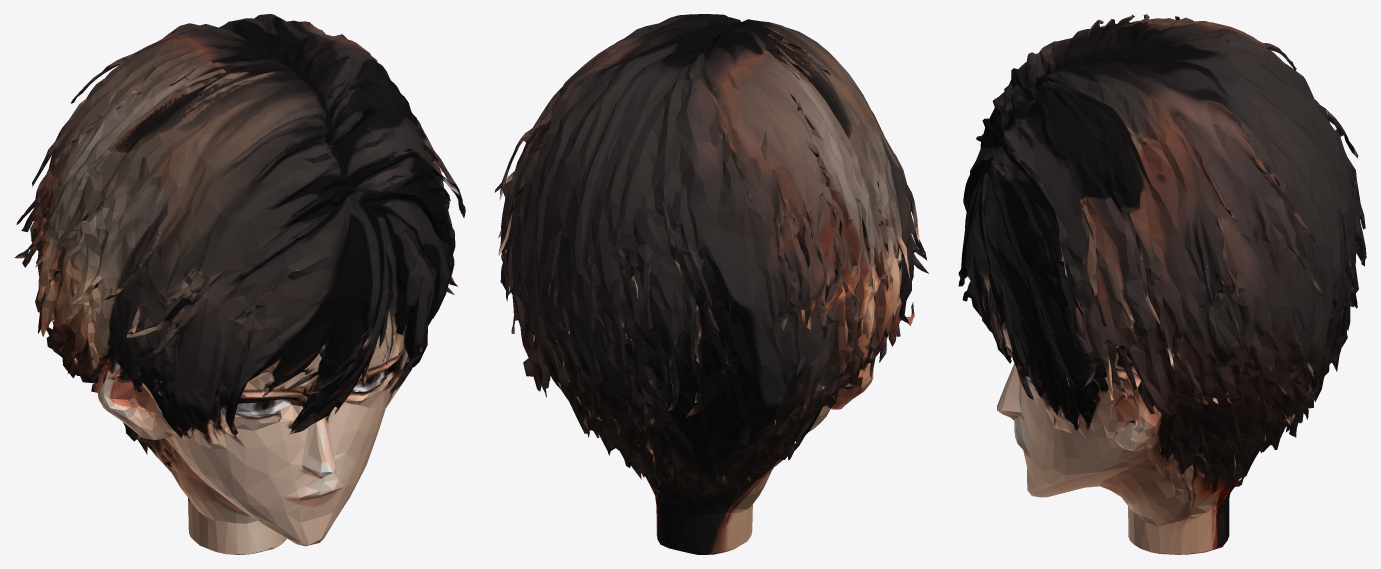
The model's file is side_sonoservant_repaired_atlas.glb.
3 renders of one model, left to right at view 1: azimuth 30°, elevation 25°; view 2: azimuth 150°, elevation 25°; view 3: azimuth 270°, elevation 25°, orthographic. The views are drawn at different scales.
Visible parts, largest first — view 1: temp_mesh.ply; view 2: temp_mesh.ply; view 3: temp_mesh.ply.
Part boxes in pixels (x1,y1,x2,y2): temp_mesh.ply: (14, 14, 465, 554); temp_mesh.ply: (494, 14, 928, 554); temp_mesh.ply: (958, 14, 1366, 554).
Size of the model in its own units: 1.58 by 1.97 by 1.47.
1 material, 1 textured.
